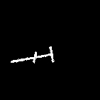double_crochet: (11, 47, 53, 62)
